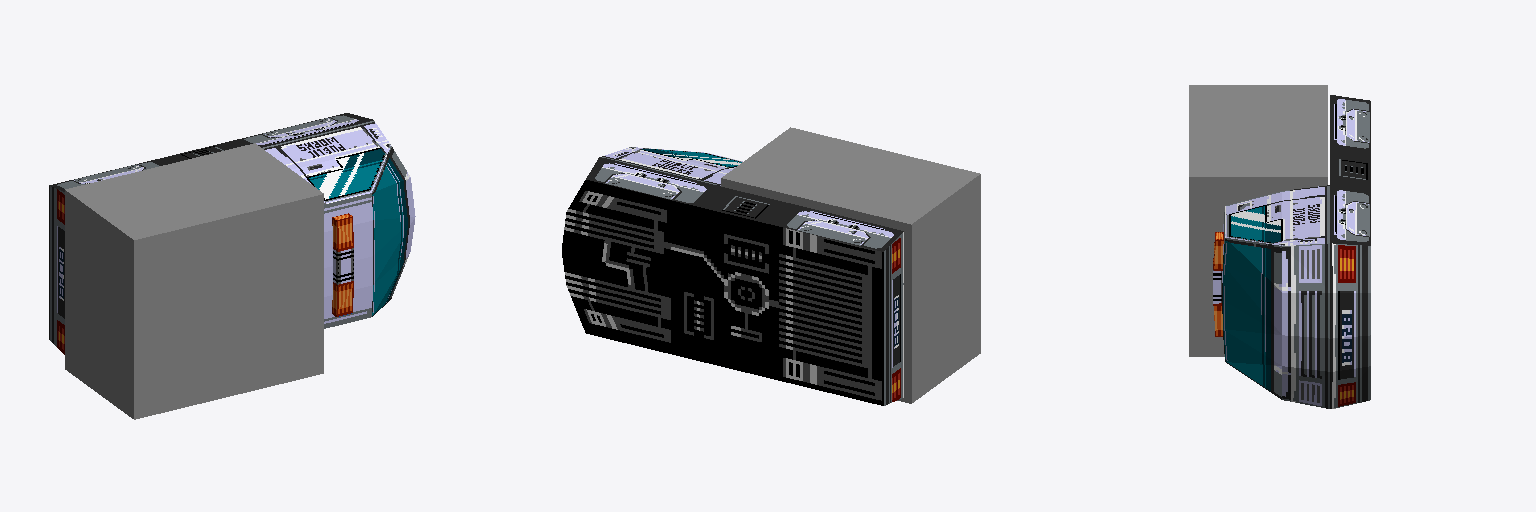
3 views of the same model, side by side, from view 1: azimuth 30°, elevation 25°; view 2: azimuth 150°, elevation 25°; view 3: azimuth 270°, elevation 25° (orthographic).
Visible parts, largest first — view 1: truck_box, public_works; view 2: public_works, truck_box; view 3: public_works, truck_box.
Part boxes in pixels (bbox=[...]): truck_box: bbox=[65, 143, 323, 419]; public_works: bbox=[49, 113, 415, 354]; public_works: bbox=[562, 147, 903, 405]; truck_box: bbox=[721, 127, 980, 403]; public_works: bbox=[1213, 95, 1370, 408]; truck_box: bbox=[1189, 85, 1327, 356].
Bounding box in the file's own units: 57.5 × 29.47 × 27.1.
2 materials, 1 textured.